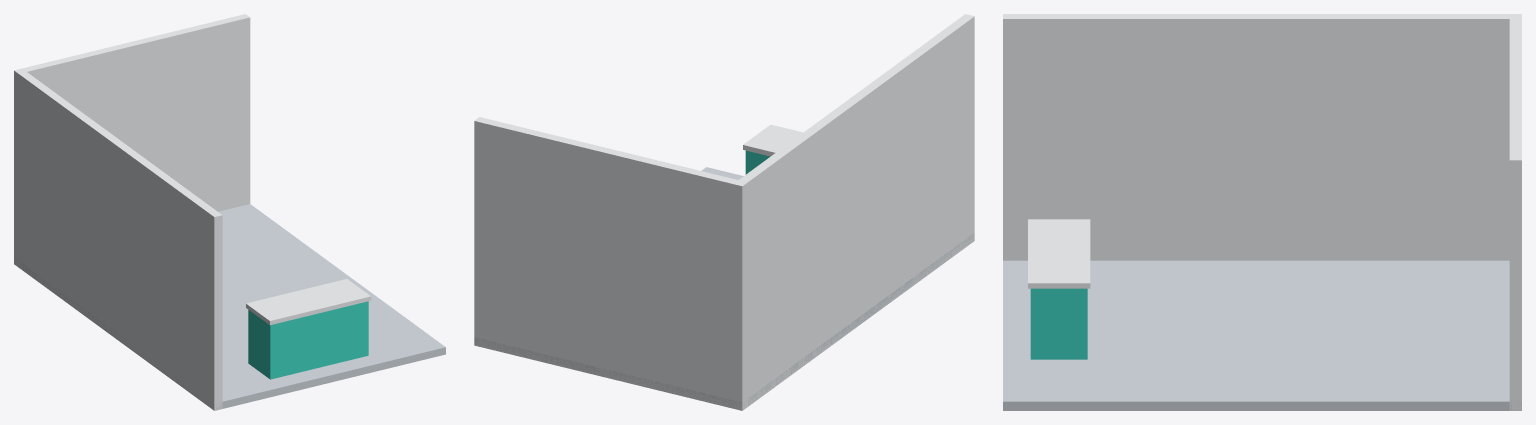
3 views of the same model, side by side, from view 1: azimuth 30°, elevation 25°; view 2: azimuth 150°, elevation 25°; view 3: azimuth 270°, elevation 25° (orthographic). The views are drawn at different scales.
Visible parts, largest first — view 1: Exhibition Booth Concept; view 2: Exhibition Booth Concept; view 3: Exhibition Booth Concept.
Part boxes in pixels (box(x1,y1,x2,y2)): Exhibition Booth Concept: box(14, 14, 445, 410); Exhibition Booth Concept: box(474, 14, 974, 410); Exhibition Booth Concept: box(1003, 14, 1521, 410).
Bounding box in the file's own units: 4 × 3.2 × 6.
